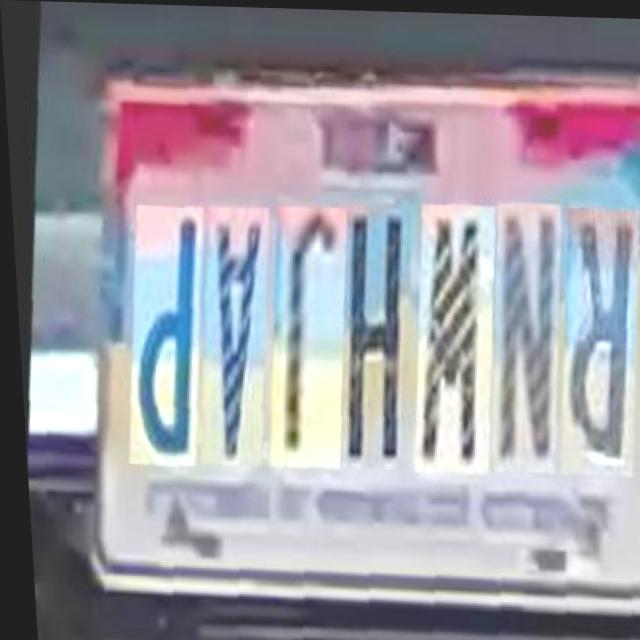a: (180, 210, 273, 472)
h: (317, 208, 416, 476)
j: (249, 210, 350, 475)
n: (469, 209, 566, 482)
p: (109, 209, 207, 472)
r: (539, 215, 640, 487)
w: (394, 210, 500, 482)
